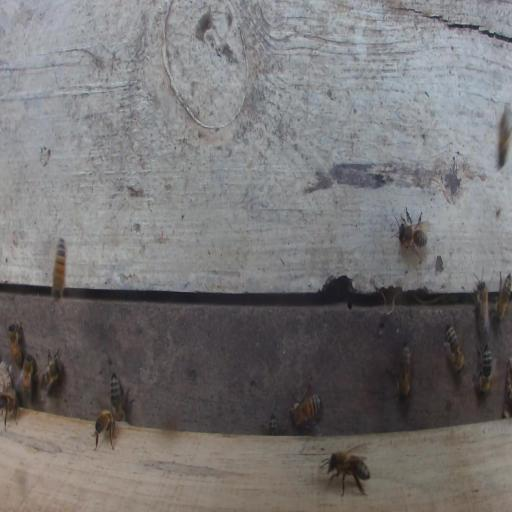nonpollenbee: (319, 448, 371, 497), (385, 339, 412, 400), (395, 207, 429, 255), (441, 324, 465, 374), (38, 348, 61, 399), (291, 393, 322, 427), (473, 273, 489, 337), (474, 340, 492, 395), (492, 272, 511, 323), (94, 409, 116, 451), (51, 236, 65, 299), (110, 371, 126, 423), (498, 105, 510, 169), (8, 320, 23, 369), (0, 392, 19, 430), (22, 353, 36, 397), (267, 415, 279, 436)
